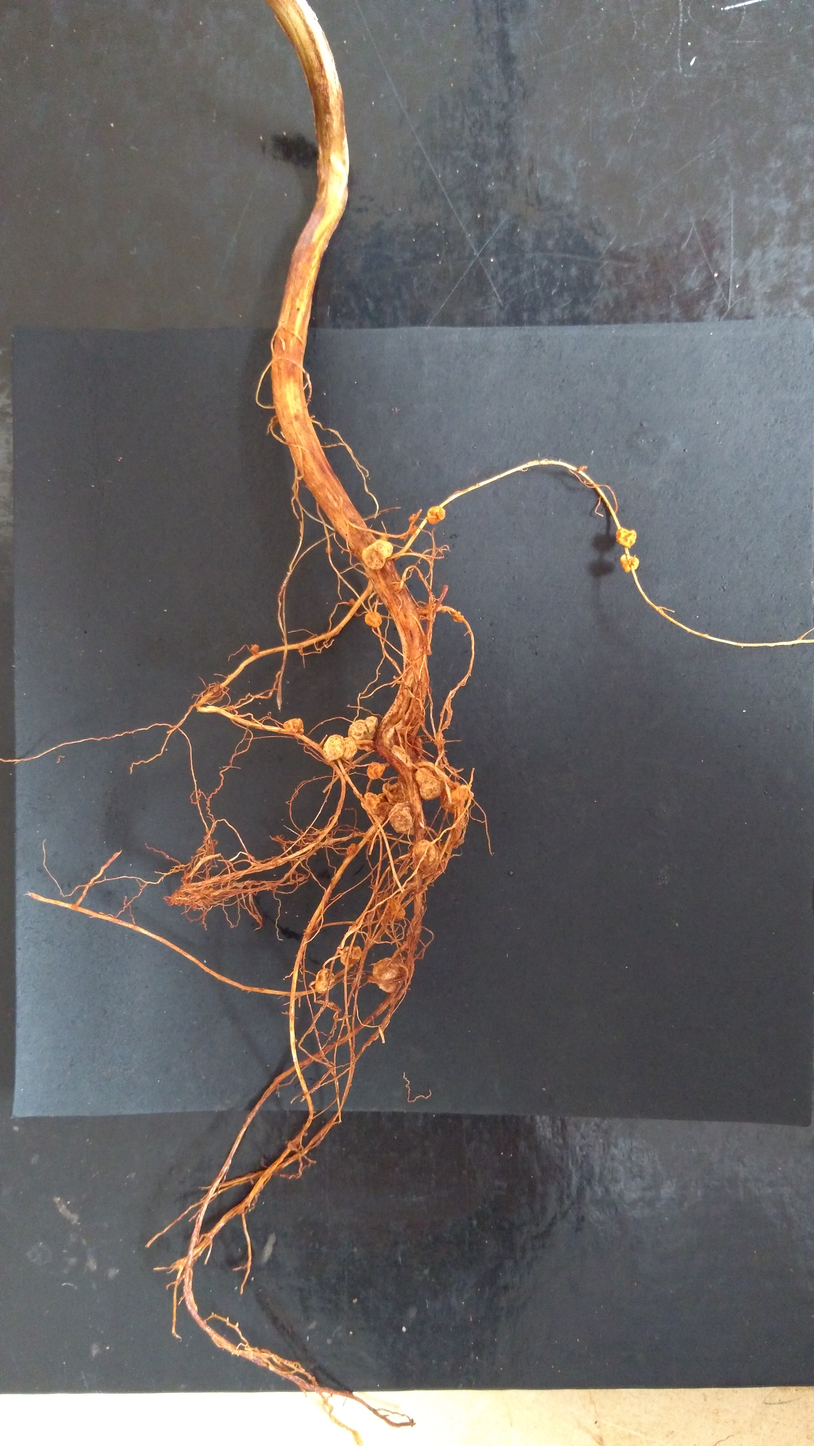nodule: (371, 957, 404, 993), (415, 766, 445, 801), (412, 839, 441, 874), (388, 800, 416, 836), (361, 539, 393, 569), (439, 782, 468, 814), (323, 735, 357, 760), (348, 716, 378, 741), (382, 783, 411, 806), (371, 792, 395, 818), (391, 744, 413, 770), (315, 966, 336, 993), (406, 735, 423, 764), (193, 887, 216, 908), (386, 898, 405, 922), (341, 945, 362, 966), (615, 528, 637, 548), (451, 784, 474, 802), (360, 792, 379, 813), (366, 761, 385, 780), (620, 554, 639, 573), (283, 718, 304, 735), (428, 506, 446, 525), (364, 611, 382, 628), (406, 745, 420, 763), (356, 739, 374, 751), (451, 610, 464, 623), (434, 731, 445, 745), (347, 842, 358, 855), (366, 835, 378, 845), (250, 644, 260, 654), (408, 524, 417, 535), (325, 545, 333, 554), (408, 513, 416, 522), (380, 534, 389, 541), (349, 598, 356, 605), (441, 607, 447, 613)
